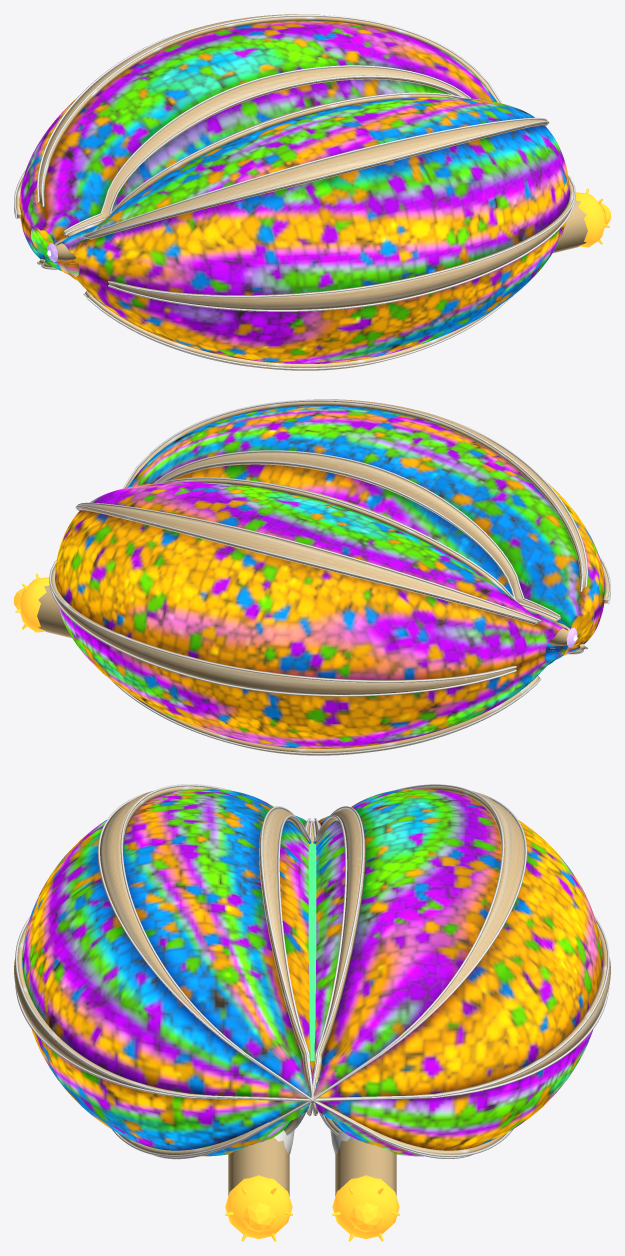
File: ithar_GW4.gltf
The picture shows the model from 3 angles, top to bottom: view 1: azimuth 30°, elevation 25°; view 2: azimuth 150°, elevation 25°; view 3: azimuth 270°, elevation 25°; orthographic projection. The views are drawn at different scales.
Parts seen in each view (by area): view 1: ithar_GW4; view 2: ithar_GW4; view 3: ithar_GW4.
Boxes of the visible parts, x1,y1,x2,y2 form: ithar_GW4: (14,14,610,370); ithar_GW4: (14,399,610,755); ithar_GW4: (14,784,610,1241).
Size of the model in its own units: 1 by 0.3912 by 0.8154.
6 materials, 2 textured.
